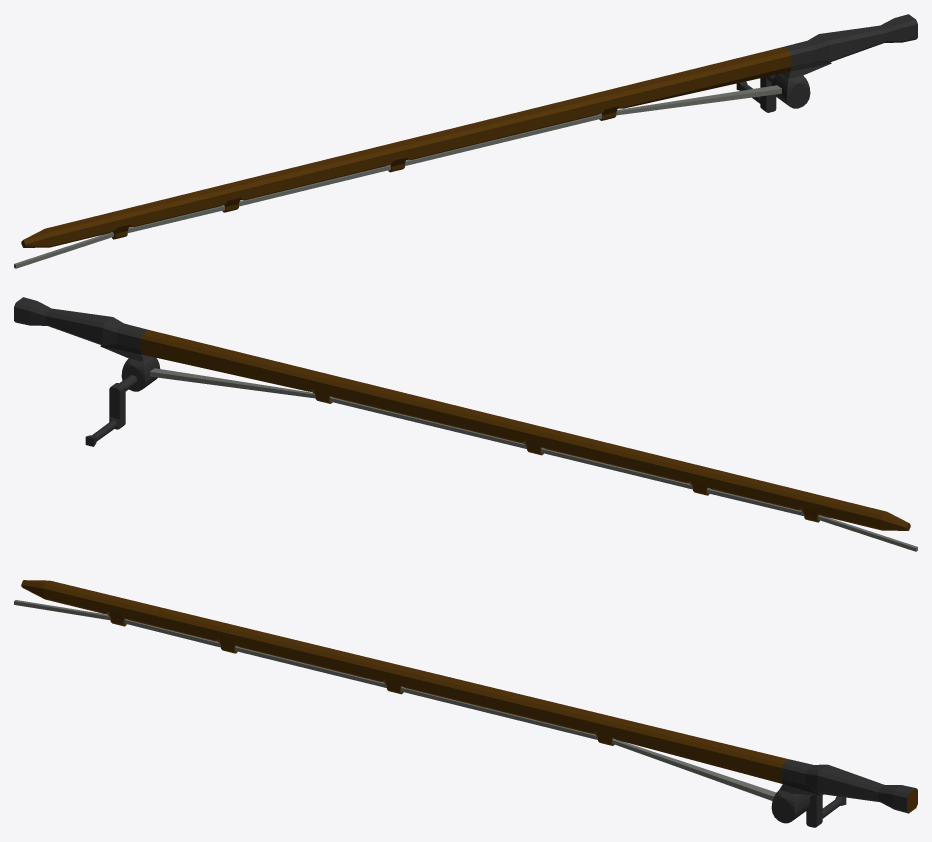
Rendered from ROD2.fbx.
The picture shows the model from 3 angles, top to bottom: view 1: azimuth 30°, elevation 25°; view 2: azimuth 150°, elevation 25°; view 3: azimuth 330°, elevation 25°; orthographic projection.
Visible parts, largest first — view 1: FishingRod, FishingRod.008; view 2: FishingRod, FishingRod.008; view 3: FishingRod, FishingRod.008.
Part boxes in pixels (bbox=[...]): FishingRod: bbox=[14, 14, 917, 268]; FishingRod.008: bbox=[736, 75, 776, 112]; FishingRod: bbox=[14, 297, 917, 551]; FishingRod.008: bbox=[85, 375, 137, 446]; FishingRod: bbox=[14, 580, 917, 823]; FishingRod.008: bbox=[806, 795, 846, 827].
Size of the model in its own units: 924 by 80.47 by 104.
